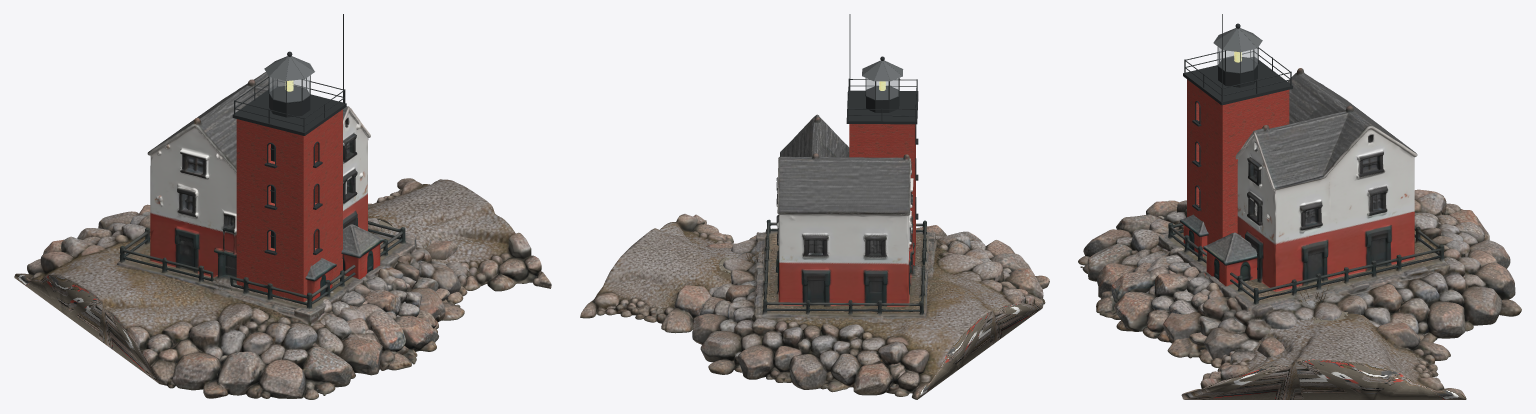
The model's file is lighthouse-8300fad08402.glb.
3 views of the same model, side by side, from view 1: azimuth 30°, elevation 25°; view 2: azimuth 150°, elevation 25°; view 3: azimuth 270°, elevation 25° (orthographic). The views are drawn at different scales.
Visible parts, largest first — view 1: TerrainRight_Reference_aligned_coast_and_architecture_PBR, TerrainLeft_Reference_aligned_coast_and_architecture_PBR, Lighthouse_Reference_aligned_coast_and_architecture_PBR, Lighthouse_Weathered_vermilion_brick, Lighthouse_Weathered_black_painted_iron, Cabin1_Reference_aligned_coast_and_architecture_PBR, Lighthouse_Lantern_seamed_zinc_roof, Lighthouse_Review_glass_separate_from_metal, Cabin0_Reference_aligned_coast_and_architecture_PBR; view 2: TerrainRight_Reference_aligned_coast_and_architecture_PBR, Lighthouse_Reference_aligned_coast_and_architecture_PBR, TerrainLeft_Reference_aligned_coast_and_architecture_PBR, Lighthouse_Weathered_black_painted_iron, Lighthouse_Weathered_vermilion_brick, Lighthouse_Lantern_seamed_zinc_roof, Lighthouse_Review_glass_separate_from_metal; view 3: TerrainRight_Reference_aligned_coast_and_architecture_PBR, Lighthouse_Reference_aligned_coast_and_architecture_PBR, TerrainLeft_Reference_aligned_coast_and_architecture_PBR, Lighthouse_Weathered_vermilion_brick, Lighthouse_Weathered_black_painted_iron, Cabin1_Reference_aligned_coast_and_architecture_PBR, Lighthouse_Lantern_seamed_zinc_roof, Lighthouse_Review_glass_separate_from_metal, Cabin0_Reference_aligned_coast_and_architecture_PBR.
Part boxes in pixels (x1,y1,x2,y2): TerrainRight_Reference_aligned_coast_and_architecture_PBR: (14, 204, 469, 399); TerrainLeft_Reference_aligned_coast_and_architecture_PBR: (320, 178, 551, 370); Lighthouse_Reference_aligned_coast_and_architecture_PBR: (121, 72, 405, 302); Lighthouse_Weathered_vermilion_brick: (236, 109, 342, 301); Lighthouse_Weathered_black_painted_iron: (232, 14, 346, 255); Cabin1_Reference_aligned_coast_and_architecture_PBR: (341, 224, 384, 284); Lighthouse_Lantern_seamed_zinc_roof: (264, 56, 314, 80); Lighthouse_Review_glass_separate_from_metal: (269, 76, 309, 101); Cabin0_Reference_aligned_coast_and_architecture_PBR: (305, 258, 336, 302); TerrainRight_Reference_aligned_coast_and_architecture_PBR: (692, 221, 1049, 399); Lighthouse_Reference_aligned_coast_and_architecture_PBR: (763, 114, 926, 308); TerrainLeft_Reference_aligned_coast_and_architecture_PBR: (580, 214, 740, 333); Lighthouse_Weathered_black_painted_iron: (846, 14, 918, 219); Lighthouse_Weathered_vermilion_brick: (849, 124, 915, 265); Lighthouse_Lantern_seamed_zinc_roof: (862, 60, 903, 81); Lighthouse_Review_glass_separate_from_metal: (866, 78, 898, 99); TerrainRight_Reference_aligned_coast_and_architecture_PBR: (1078, 189, 1521, 363); Lighthouse_Reference_aligned_coast_and_architecture_PBR: (1168, 68, 1443, 298); TerrainLeft_Reference_aligned_coast_and_architecture_PBR: (1096, 247, 1466, 399); Lighthouse_Weathered_vermilion_brick: (1187, 79, 1289, 244); Lighthouse_Weathered_black_painted_iron: (1183, 14, 1292, 210); Cabin1_Reference_aligned_coast_and_architecture_PBR: (1198, 232, 1257, 289); Lighthouse_Lantern_seamed_zinc_roof: (1213, 28, 1262, 52); Lighthouse_Review_glass_separate_from_metal: (1218, 47, 1257, 72); Cabin0_Reference_aligned_coast_and_architecture_PBR: (1178, 214, 1208, 256).
Size of the model in its own units: 1.06 by 0.7977 by 1.08.
Materials: 13 (2 with a texture image).
